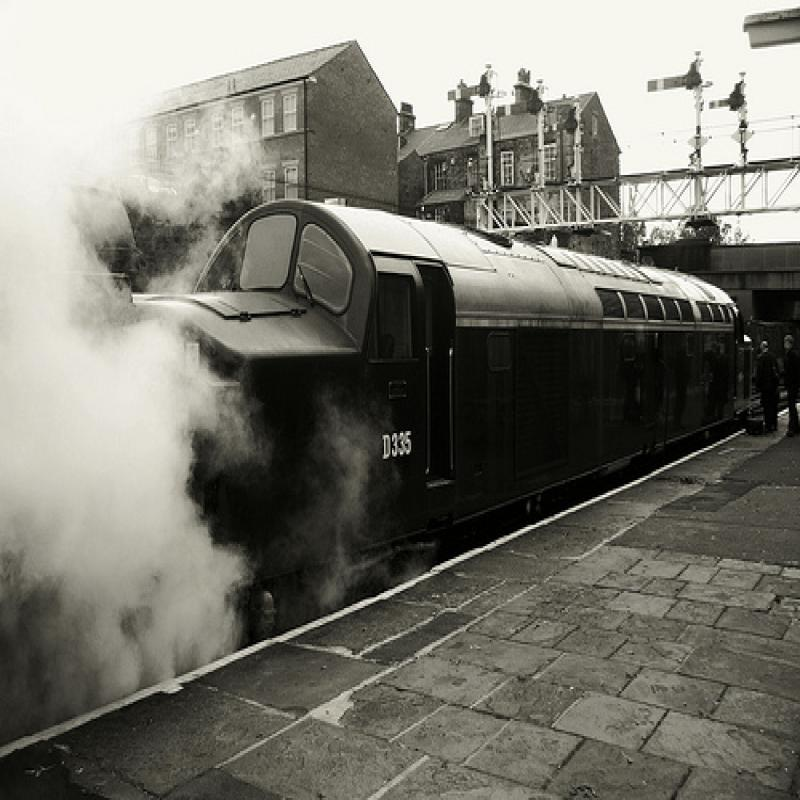train: (1, 195, 755, 716)
